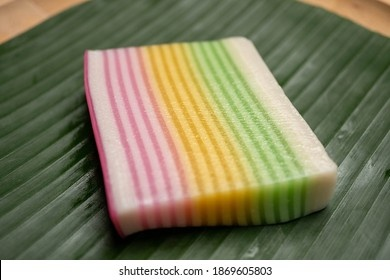kue_lapis_pelangi: (83, 36, 336, 242)
